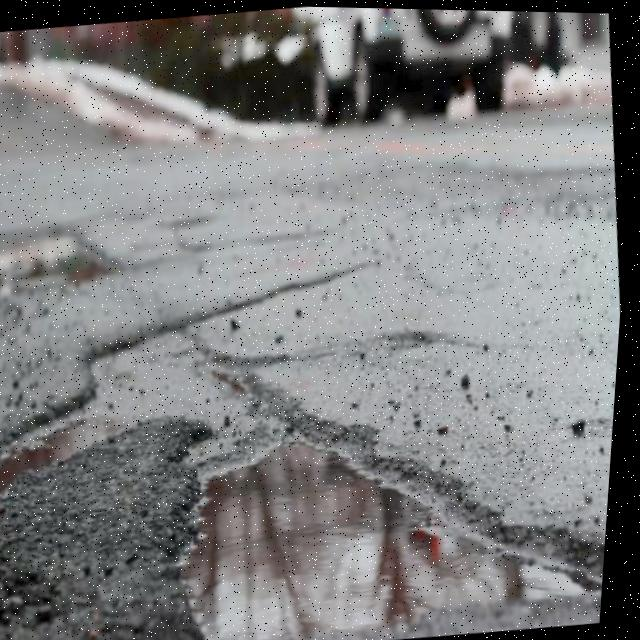Pothole: (158, 360, 621, 640), (0, 349, 155, 535), (0, 209, 125, 330)
